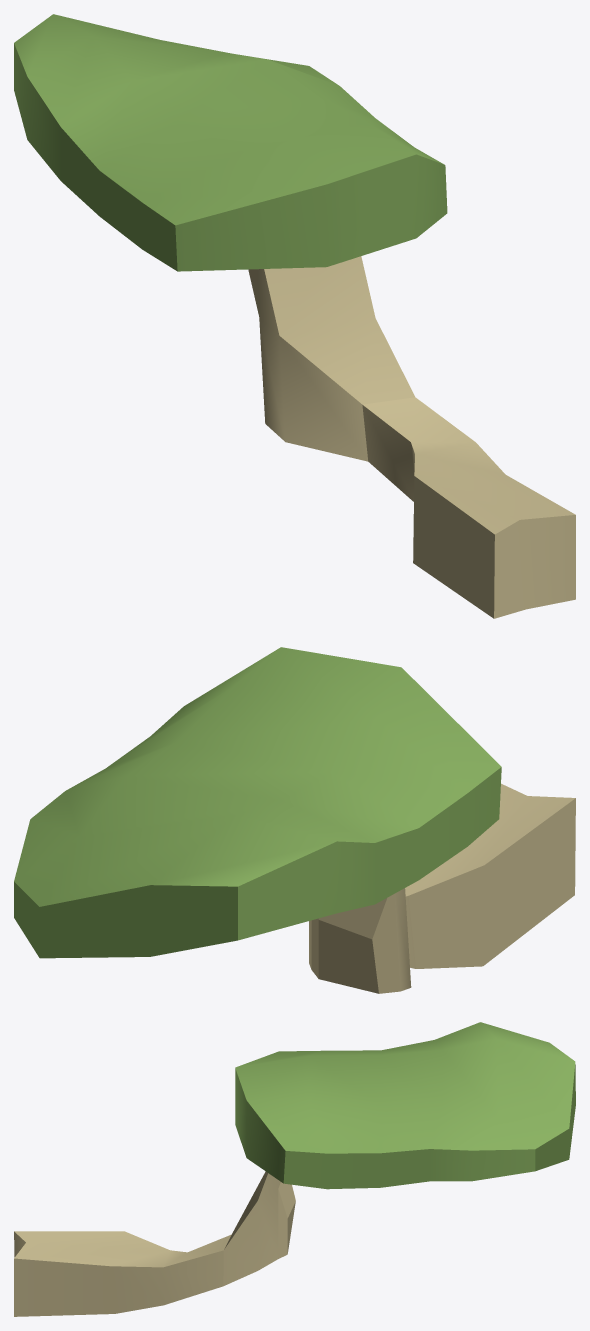
File: treelimb2.fbx
The picture shows the model from 3 angles, top to bottom: view 1: azimuth 30°, elevation 25°; view 2: azimuth 150°, elevation 25°; view 3: azimuth 270°, elevation 25°; orthographic projection. The views are drawn at different scales.
Visible parts, largest first — view 1: pasted__pasted__pCube2, pasted__pasted__pCube1; view 2: pasted__pasted__pCube2, pasted__pasted__pCube1; view 3: pasted__pasted__pCube2, pasted__pasted__pCube1.
Boxes of the visible parts, x1,y1,x2,y2 form: pasted__pasted__pCube2: (14,14,447,271); pasted__pasted__pCube1: (248,256,575,618); pasted__pasted__pCube2: (14,647,501,958); pasted__pasted__pCube1: (309,783,575,993); pasted__pasted__pCube2: (235,1022,575,1189); pasted__pasted__pCube1: (14,1171,295,1316).
Size of the model in its own units: 14.21 by 16.79 by 36.26.
